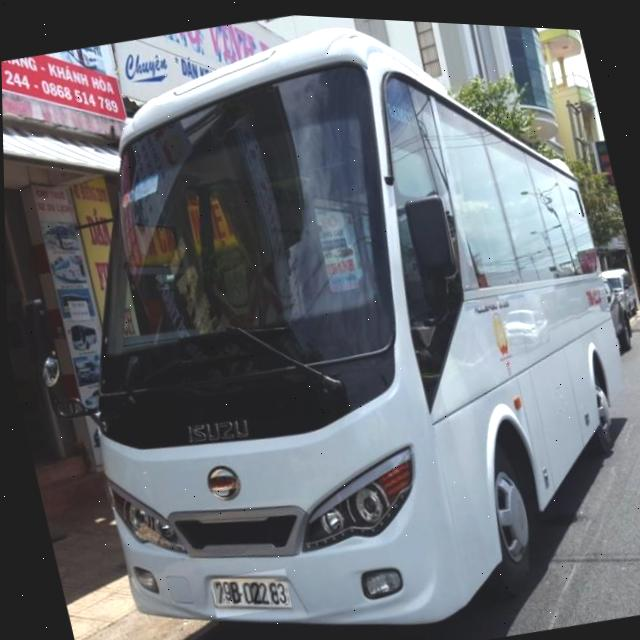car: (0, 0, 640, 640)
plate: (202, 556, 301, 631)
